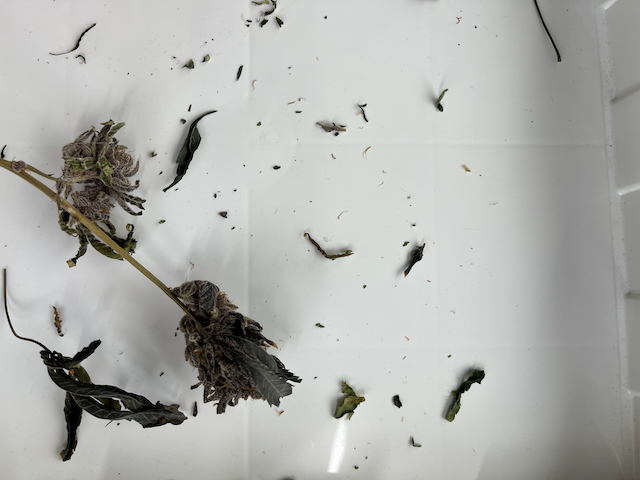Bud: (179, 281, 287, 401), (64, 137, 137, 226)
Leaf: (226, 343, 296, 410), (196, 277, 217, 318)
Stem: (75, 226, 174, 312), (0, 166, 59, 218), (18, 157, 60, 184)
